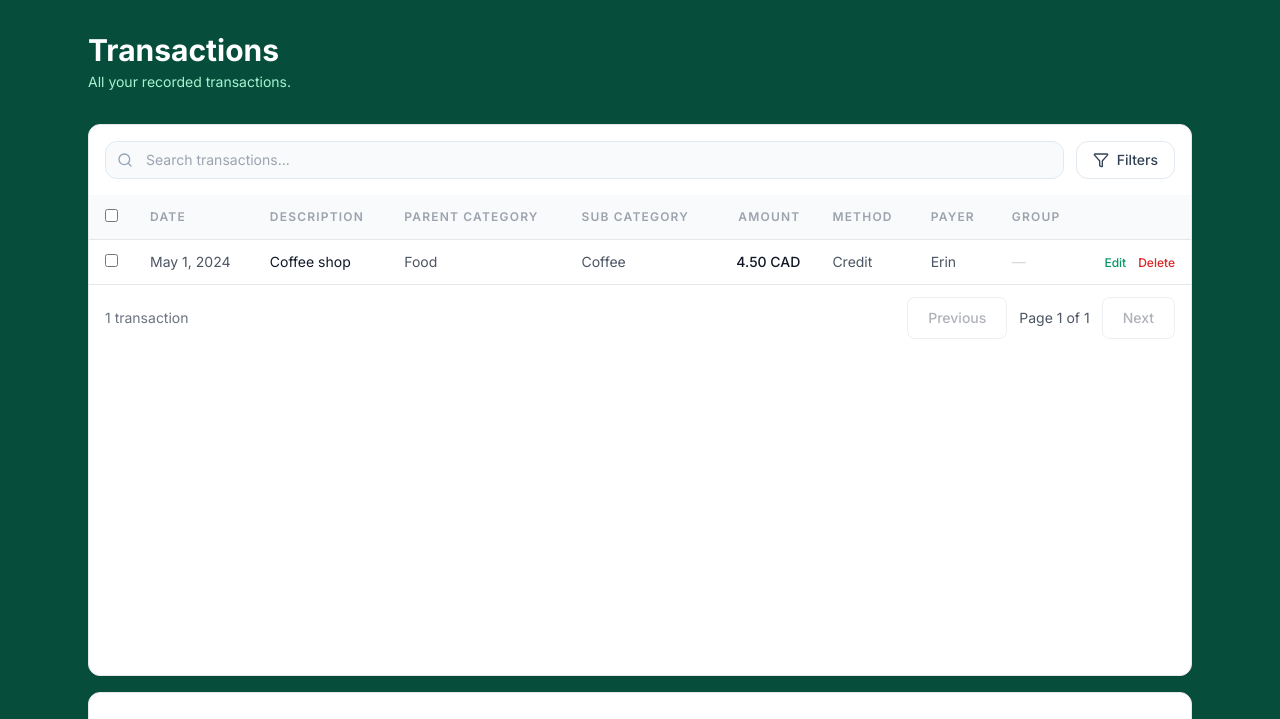
Test: TransactionsPage › shows an error and keeps the modal open when the delete request fails
expect the text "Coffee shop" is shown: met, box [254,240,388,284]
Click the button with aria-label "delete transaction coffee shop" at (1157, 263), box [1138,255,1175,271]
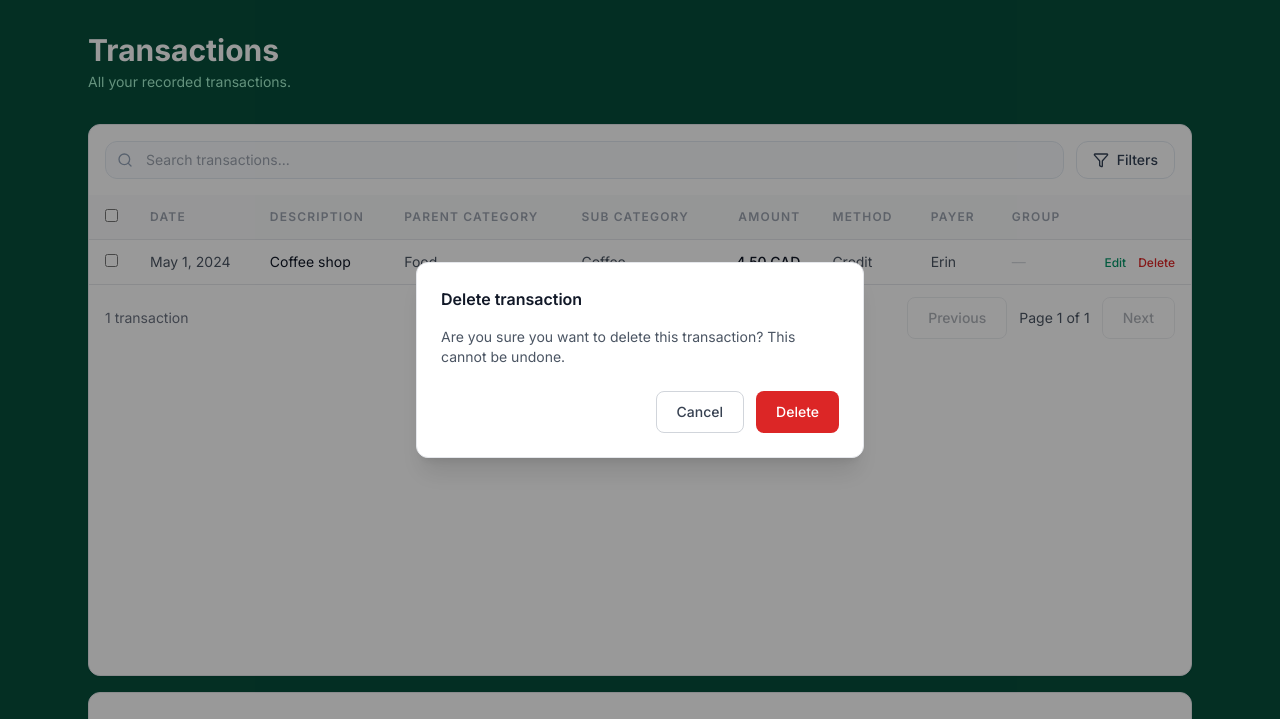
Click the button "Delete" at (798, 412), box [756,391,839,433]
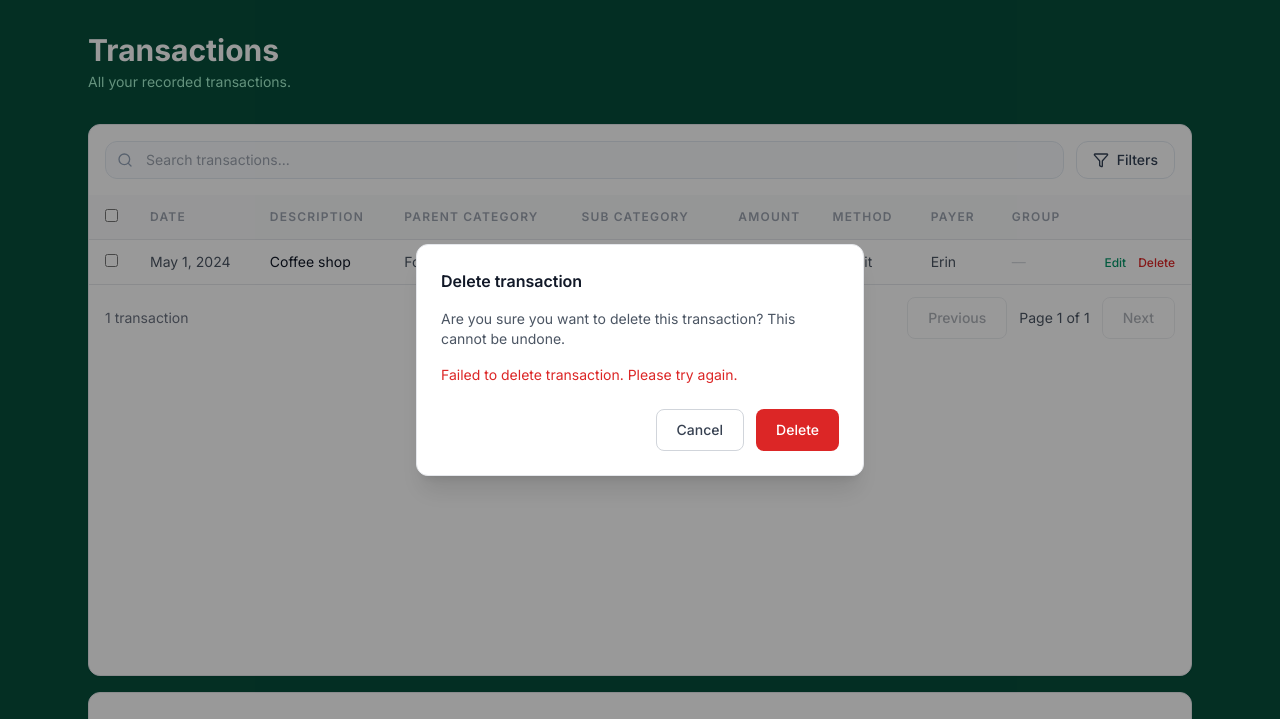
expect the text "Coffee shop" is shown: met, box [254,240,388,284]
expect the heading "Delete transaction" is shown: met, box [441,271,582,291]
expect the text "Failed to delete transaction. Please try again." is shown: met, box [441,366,738,383]
